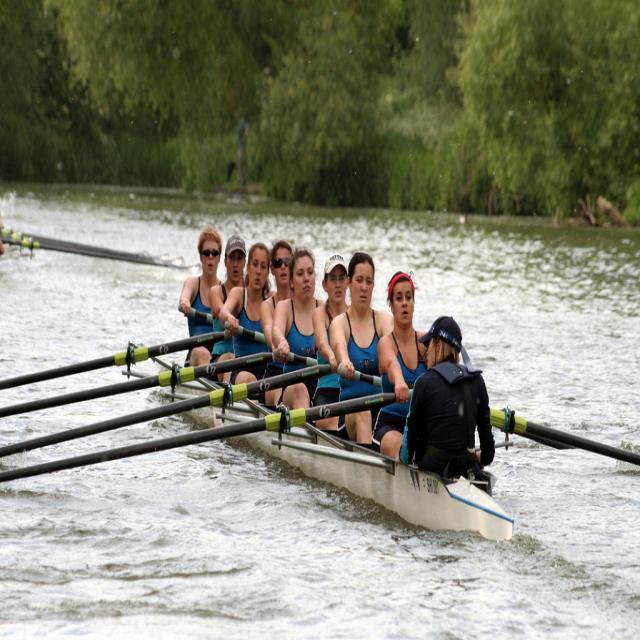Boat: (29, 258, 638, 524)
